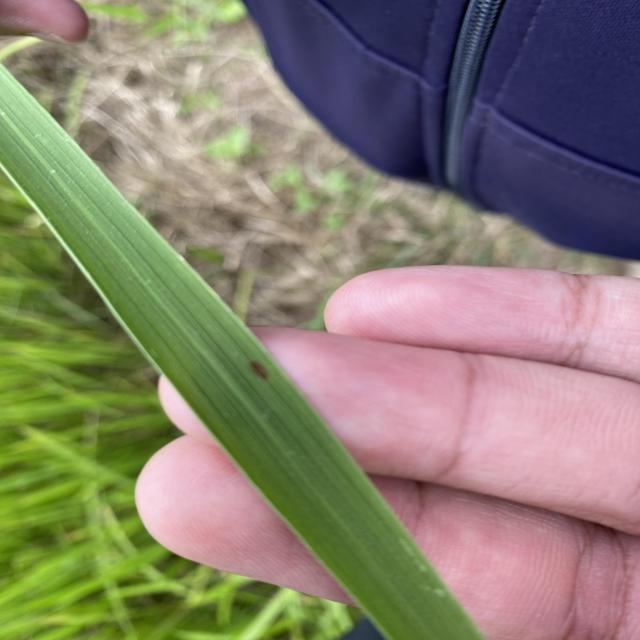Dom nau: (247, 357, 273, 383)
